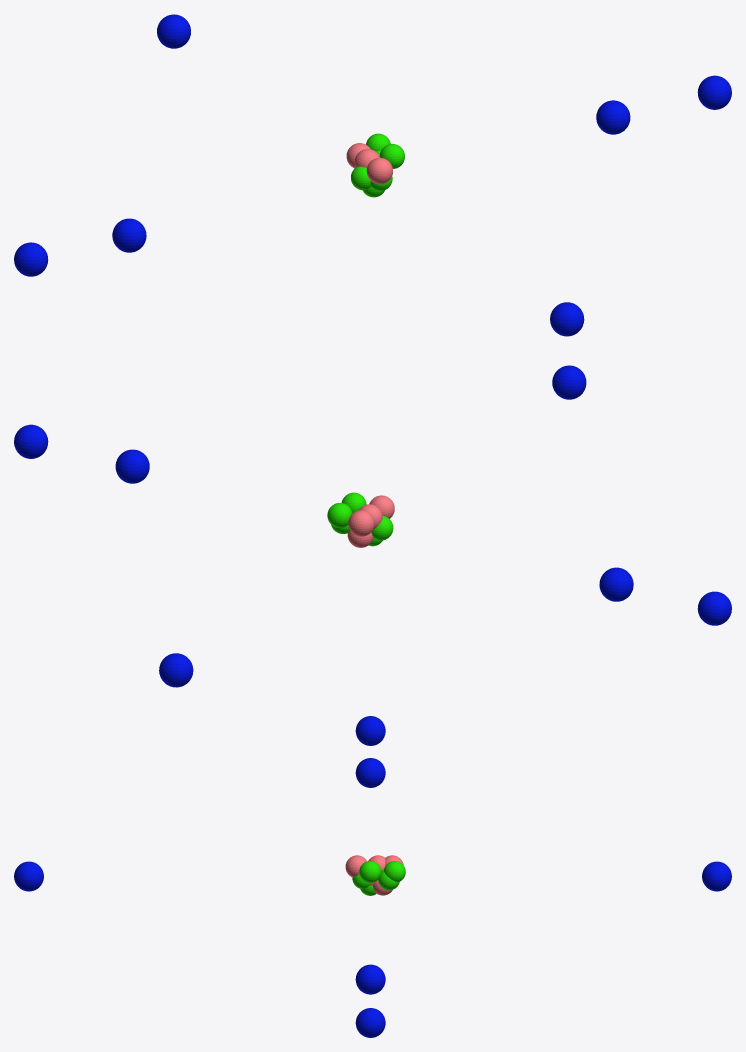
Rendered from carbon.glb.
The picture shows the model from 3 angles, top to bottom: view 1: azimuth 30°, elevation 25°; view 2: azimuth 150°, elevation 25°; view 3: azimuth 270°, elevation 25°; orthographic projection. The views are drawn at different scales.
Parts seen in each view (by area): view 1: Sphere.007, Sphere.006, Sphere.008, Sphere.014, Sphere.011, Sphere.012, Sphere.010; view 2: Sphere.008, Sphere.006, Sphere.007, Sphere.011, Sphere.014, Sphere.012, Sphere.015; view 3: Sphere.006, Sphere.007, Sphere.012, Sphere.014, Sphere.008, Sphere.011.
Part boxes in pixels (<box>): Sphere.007: <box>112,218,146,252</box>; Sphere.006: <box>596,100,630,134</box>; Sphere.008: <box>550,302,584,336</box>; Sphere.014: <box>697,75,731,109</box>; Sphere.011: <box>157,14,190,48</box>; Sphere.012: <box>14,242,48,276</box>; Sphere.010: <box>366,157,392,184</box>; Sphere.008: <box>552,365,586,399</box>; Sphere.006: <box>115,449,149,483</box>; Sphere.007: <box>599,567,633,601</box>; Sphere.011: <box>159,653,193,687</box>; Sphere.014: <box>14,424,48,458</box>; Sphere.012: <box>697,591,731,625</box>; Sphere.015: <box>348,510,374,536</box>; Sphere.006: <box>355,964,385,994</box>; Sphere.007: <box>355,758,385,787</box>; Sphere.012: <box>355,716,385,745</box>; Sphere.014: <box>355,1008,385,1037</box>; Sphere.008: <box>14,861,43,891</box>; Sphere.011: <box>702,861,731,891</box>.
Size of the model in its own units: 3.41 by 0.2134 by 3.39.
